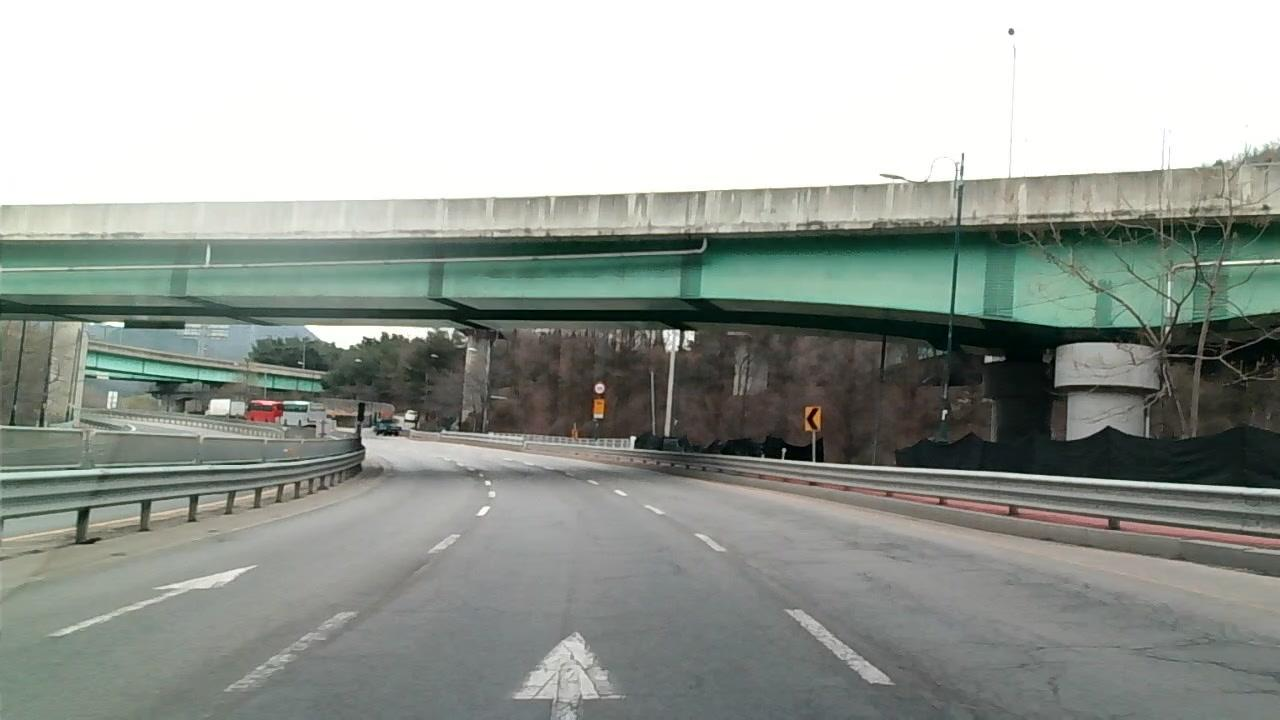vcrack: (1129, 638, 1274, 683), (1033, 645, 1071, 720)
